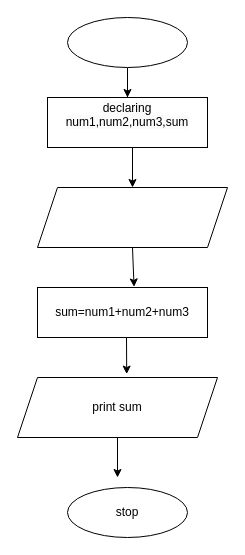
This 245x555 diagram has some shape labels left out. The shapes that lost their labels are listed below. From the top down, each one's centre as x and y in pixels, then its label:
point (127, 42): start
point (132, 217): read the values in to num1,num2,num3
